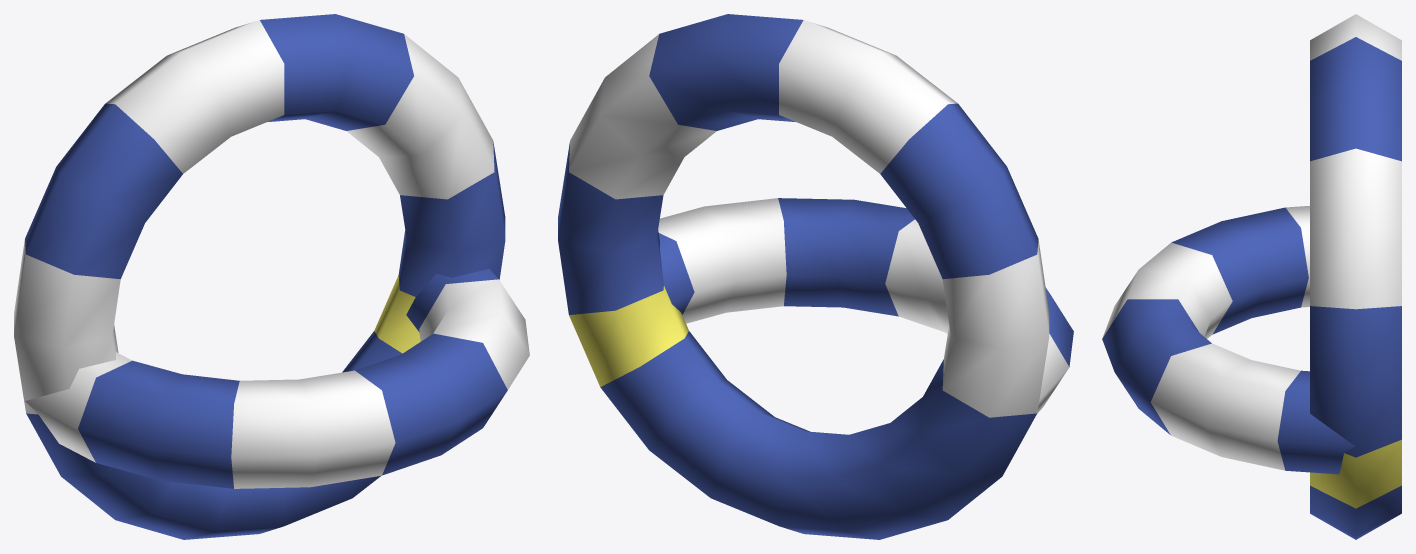
Rendered from But Bleu.fbx.
The picture shows the model from 3 angles, left to right: view 1: azimuth 30°, elevation 25°; view 2: azimuth 150°, elevation 25°; view 3: azimuth 270°, elevation 25°; orthographic projection. The views are drawn at different scales.
Visible parts, largest first — view 1: But Bleu, But rouge .002; view 2: But Bleu, But rouge .002; view 3: But Bleu, But rouge .002.
Part boxes in pixels (x1=…): But Bleu: x1=14, y1=14, x2=505, y2=539; But rouge .002: x1=25, y1=269, x2=529, y2=488; But Bleu: x1=558, y1=14, x2=1049, y2=539; But rouge .002: x1=658, y1=198, x2=1073, y2=413; But Bleu: x1=1310, y1=14, x2=1401, y2=539; But rouge .002: x1=1102, y1=206, x2=1354, y2=474.
Bounding box in the file's own units: 369 × 653 × 653.
